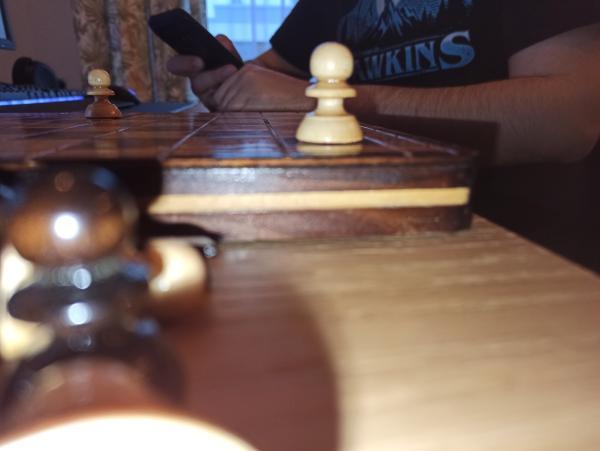wpawn: (294, 42, 364, 145)
